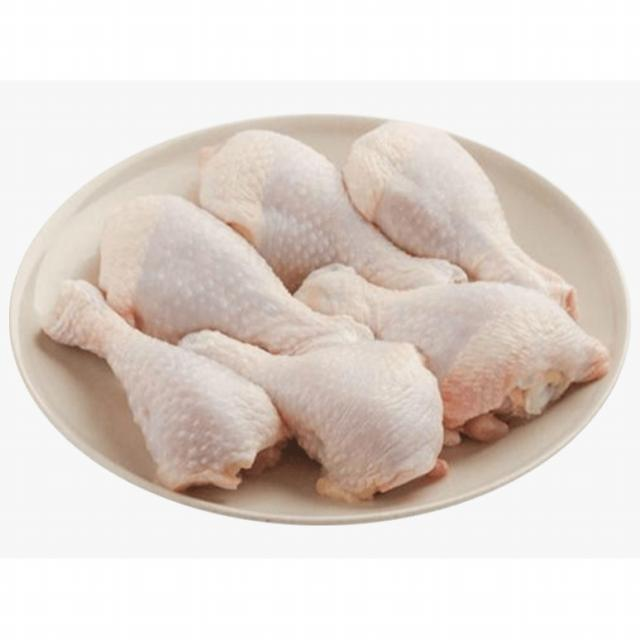chicken: (39, 133, 595, 488), (37, 278, 292, 494), (297, 258, 603, 432), (348, 128, 582, 322), (209, 133, 462, 311), (181, 325, 450, 492), (103, 197, 341, 353)
